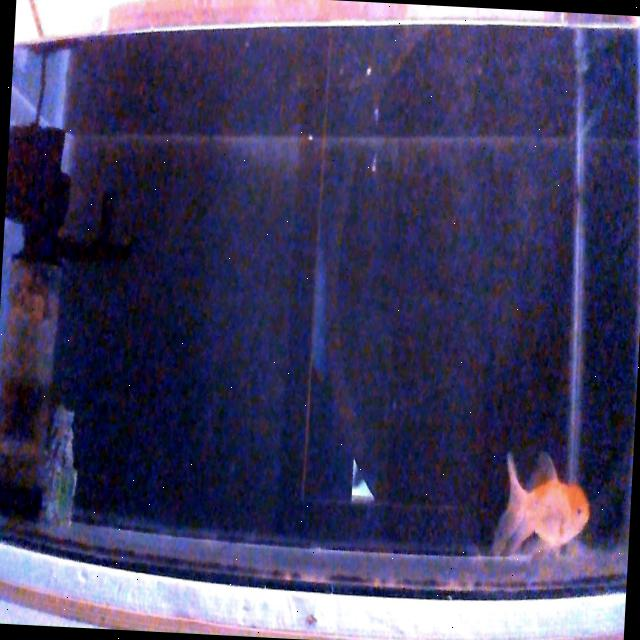fish: (492, 447, 592, 561)
